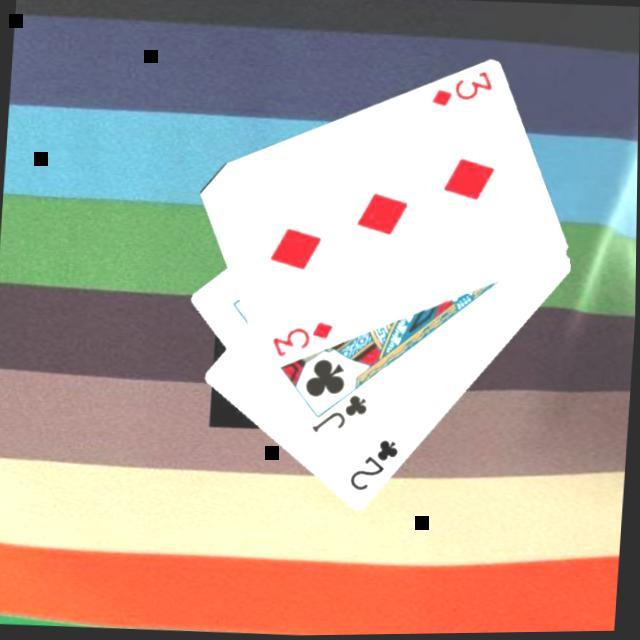2C: (349, 437, 406, 500)
3D: (270, 319, 339, 367), (430, 69, 499, 117)
JC: (310, 393, 375, 443)
